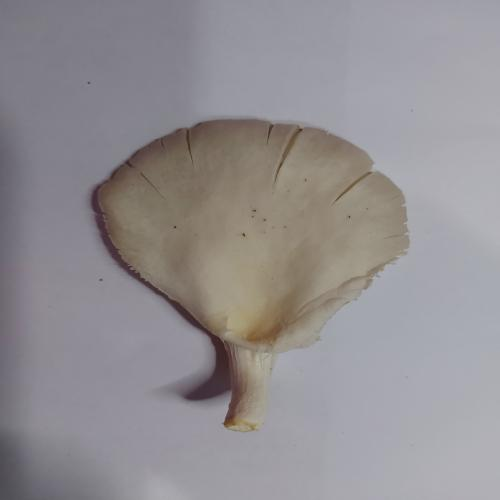Oyster Mushroom: (94, 117, 411, 433)
